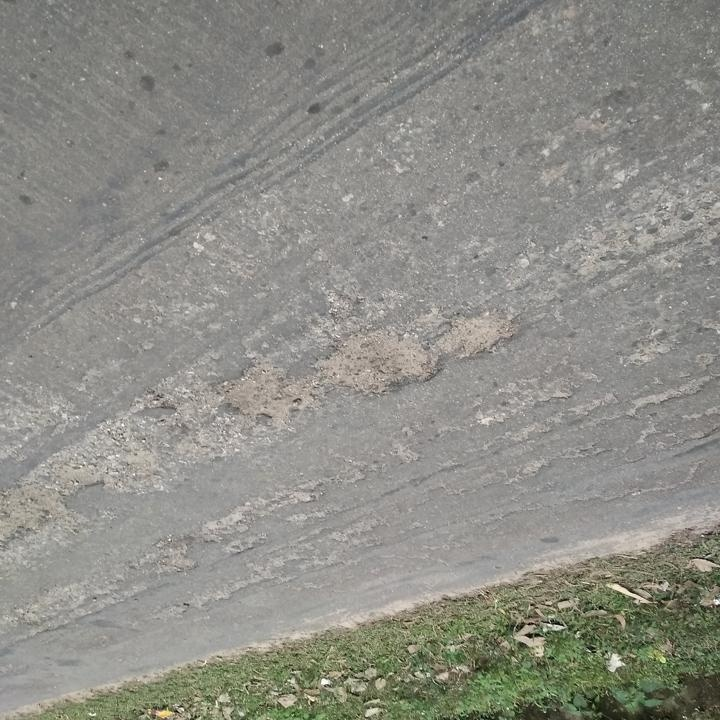pothole: (314, 328, 448, 402), (219, 360, 323, 428), (431, 317, 518, 363), (0, 491, 56, 556)
